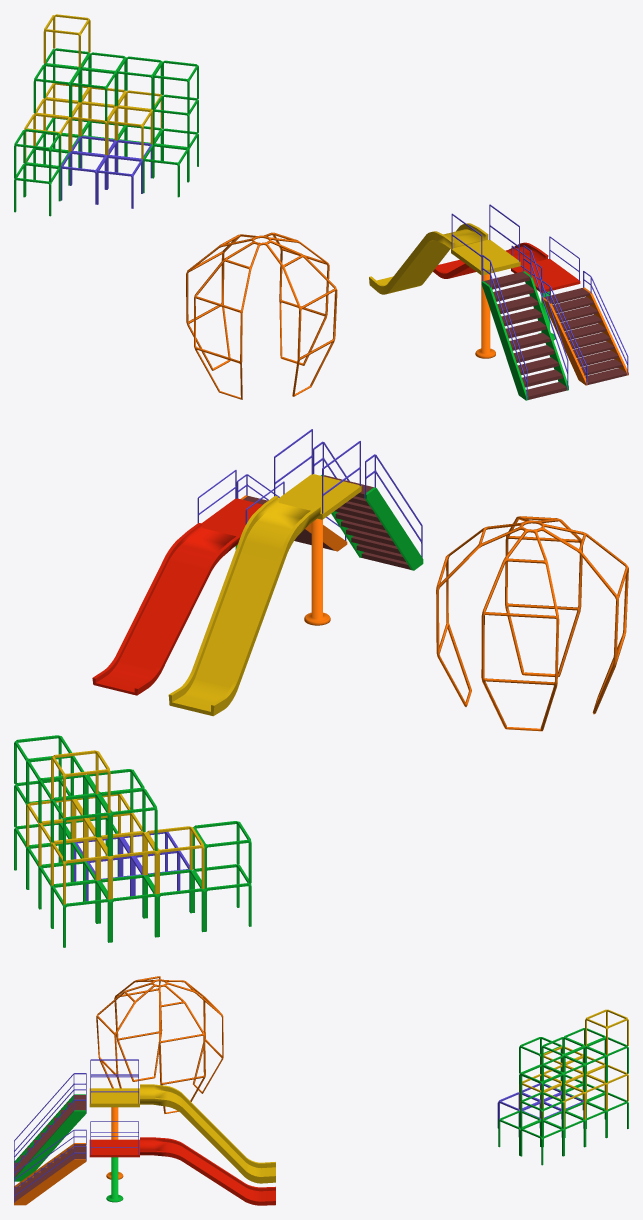
File: Play.fbx
3 renders of one model, top to bottom at view 1: azimuth 30°, elevation 25°; view 2: azimuth 150°, elevation 25°; view 3: azimuth 270°, elevation 25°, orthographic. The views are drawn at different scales.
Visible parts, largest first — view 1: Cube.006; view 2: Cube.006; view 3: Cube.006.
Boxes of the visible parts, x1,y1,x2,y2 form: Cube.006: [14, 14, 628, 400]; Cube.006: [14, 429, 628, 947]; Cube.006: [14, 976, 628, 1205].
Bounding box in the file's own units: 455 × 179 × 860.
